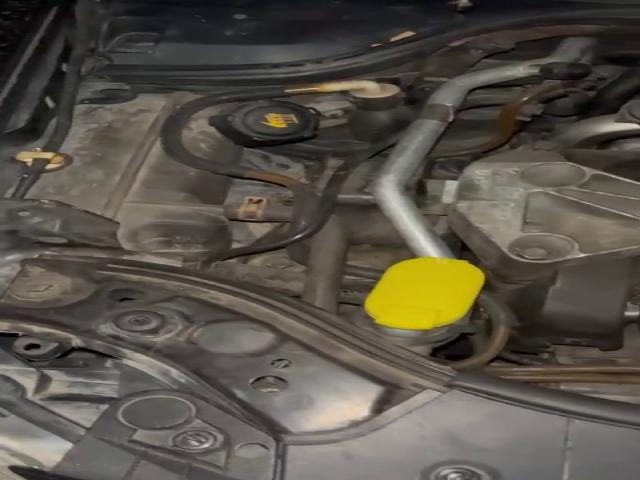antifreeze_tank: (29, 92, 232, 261), (181, 99, 316, 164)
